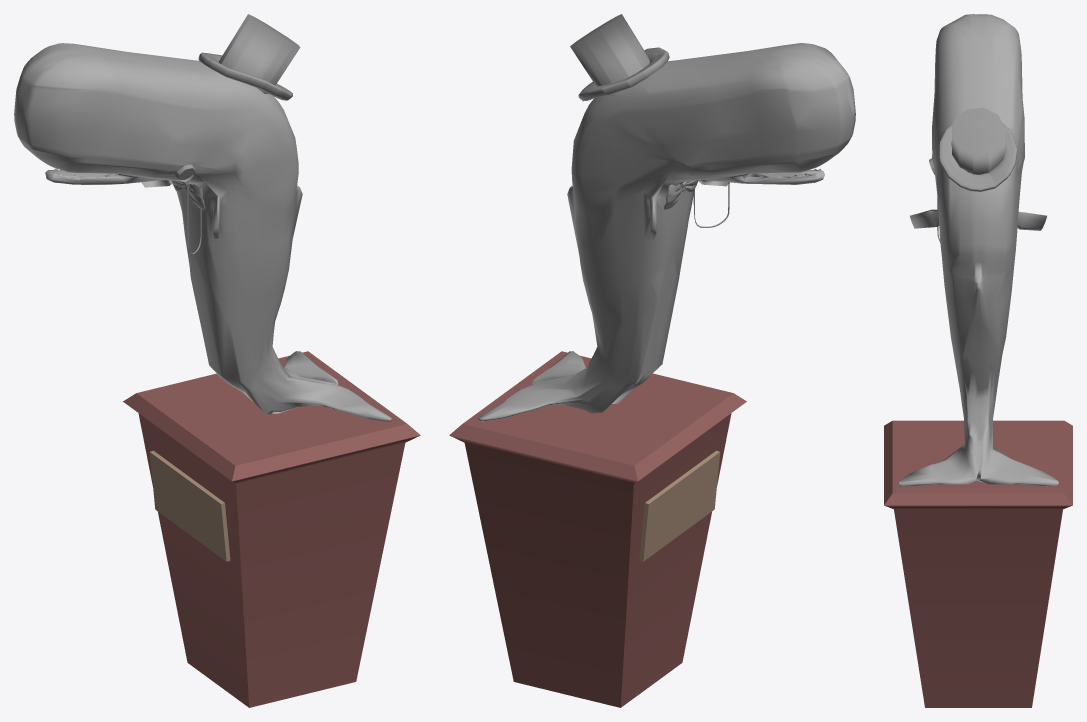
Rendered from WhaleStatue02.fbx.
3 views of the same model, side by side, from view 1: azimuth 30°, elevation 25°; view 2: azimuth 150°, elevation 25°; view 3: azimuth 270°, elevation 25° (orthographic). The views are drawn at different scales.
Visible parts, largest first — view 1: polySurface9; view 2: polySurface9; view 3: polySurface9.
Boxes of the visible parts, bbox=[...] form: polySurface9: bbox=[14, 14, 420, 707]; polySurface9: bbox=[449, 14, 855, 707]; polySurface9: bbox=[884, 14, 1072, 707].
Bounding box in the file's own units: 45.22 × 83.61 × 24.73.
